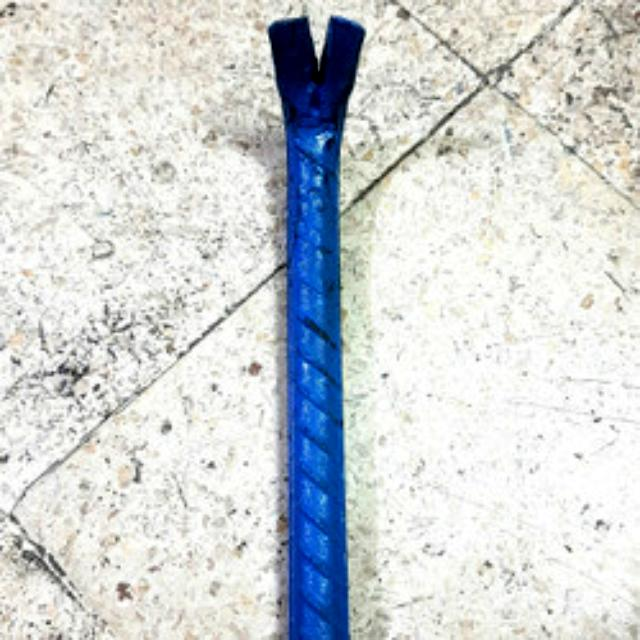crow bar: (255, 12, 387, 640)
